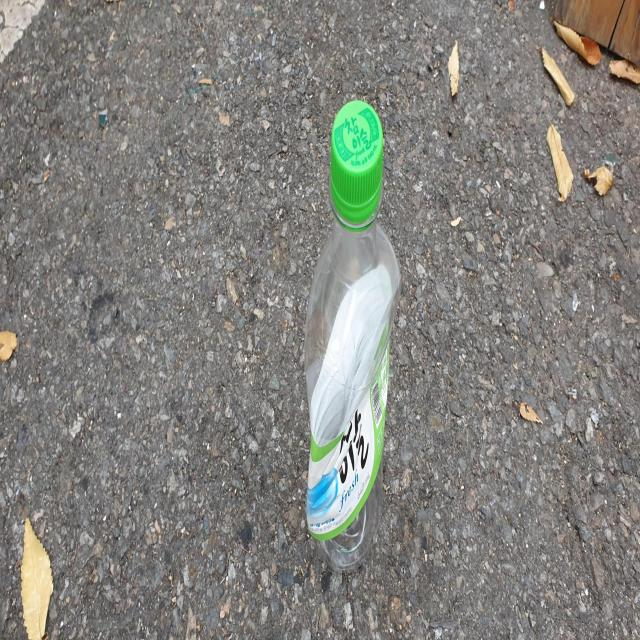plastic: (305, 99, 401, 571)
